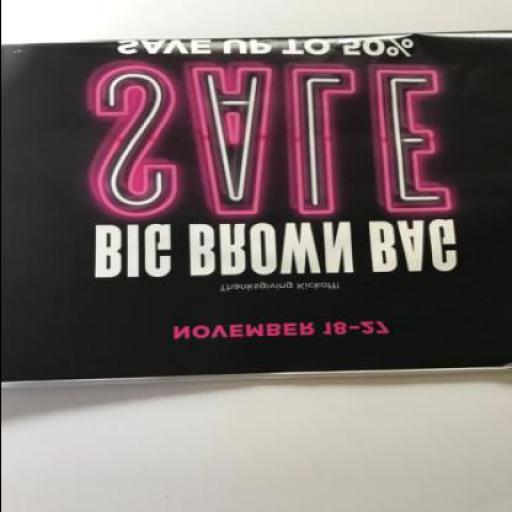paper: (1, 28, 511, 389)
